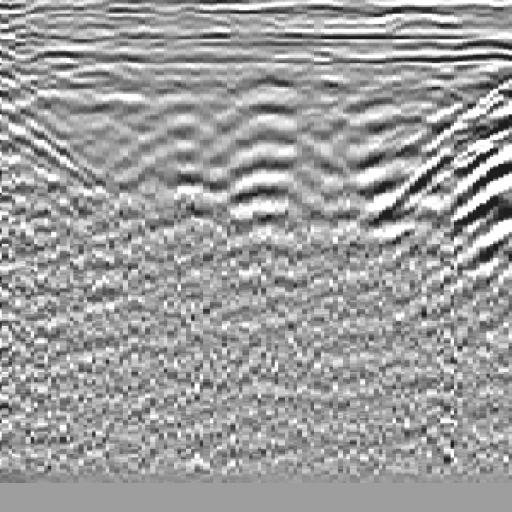metalic: (170, 56, 360, 270)
nonmetalic: (376, 60, 512, 292)
